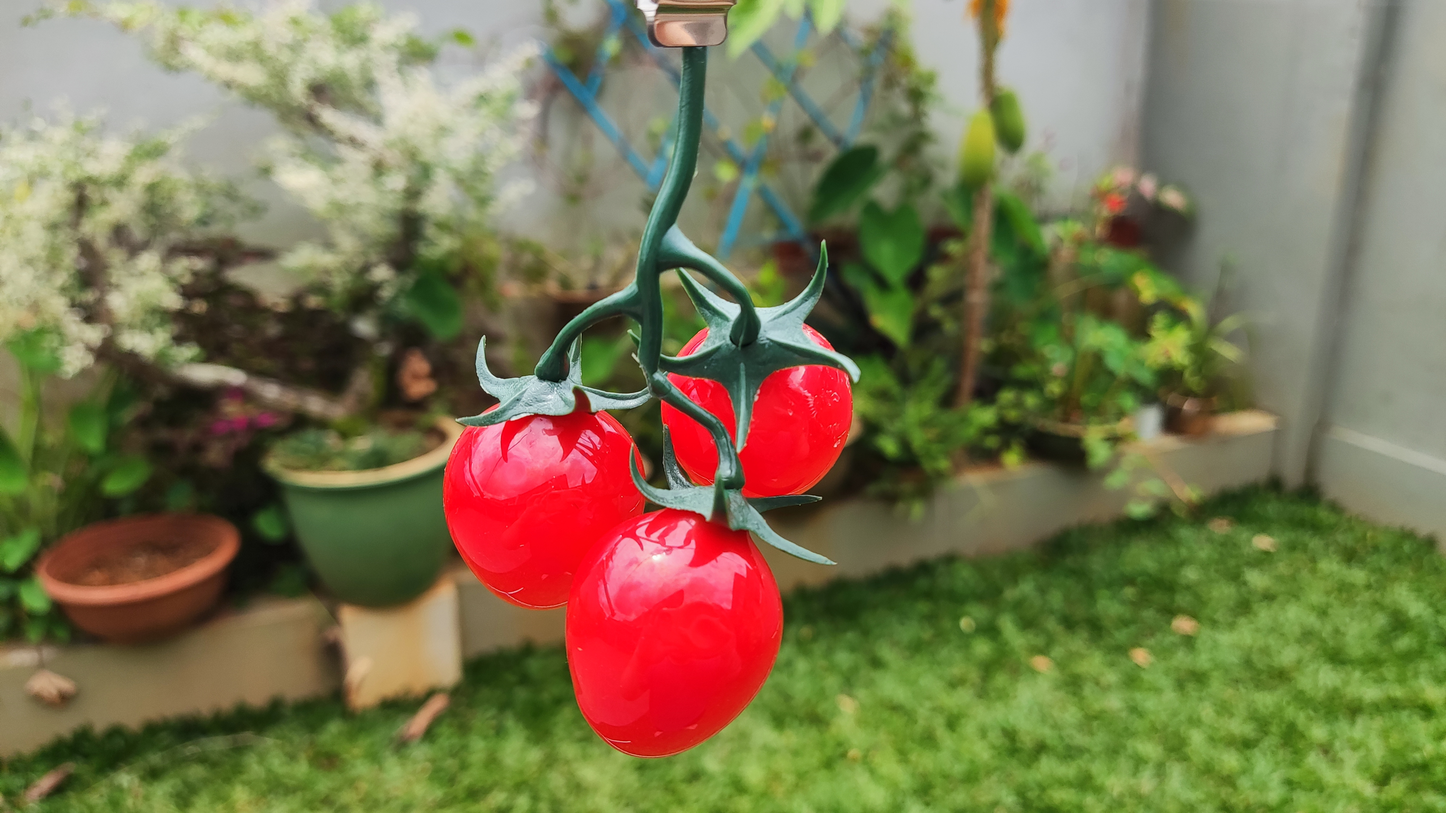peduncle: (652, 47, 707, 220)
strawberry: (565, 508, 783, 757), (443, 406, 646, 609), (739, 364, 854, 496), (662, 403, 716, 482), (669, 373, 735, 429)
